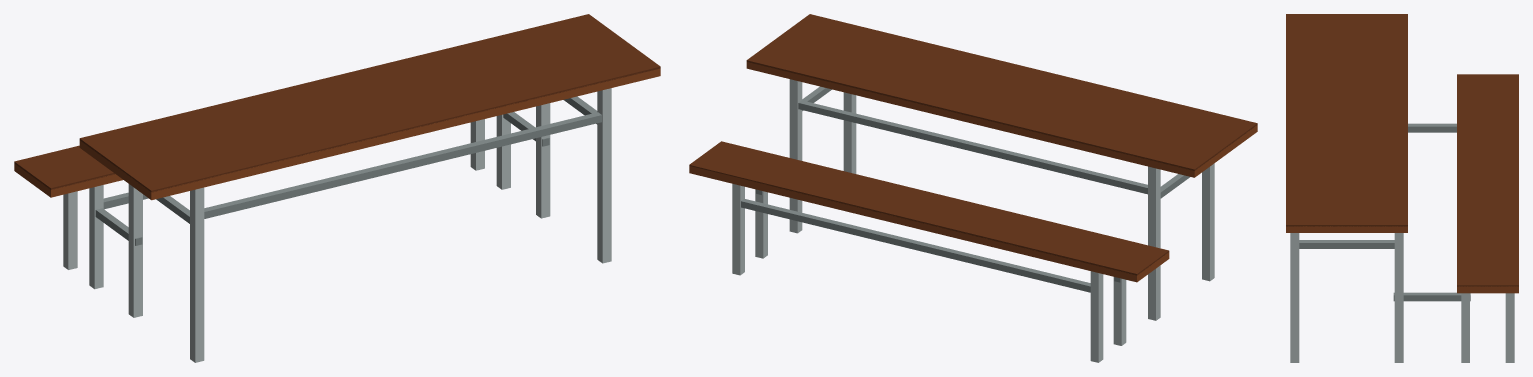
File: lab_bench_set.obj
The picture shows the model from 3 angles, left to right: view 1: azimuth 30°, elevation 25°; view 2: azimuth 150°, elevation 25°; view 3: azimuth 270°, elevation 25°; orthographic projection. The views are drawn at different scales.
Parts seen in each view (by area): view 1: Table_edge_strip, Table_top, Table_beam_right, Table_leg_R_1, Table_leg_R_3, Bench_left_edge_strip, Table_leg_L_1, Table_leg_L_3, Bench_left_leg_in_1, Bench_left_leg_out_1, Bench_left_leg_in_3, Bench_left_top (+2 smaller); view 2: Table_edge_strip, Bench_left_edge_strip, Table_top, Bench_left_top, Bench_left_beam_out, Table_beam_left, Table_leg_L_1, Table_leg_R_1, Table_leg_L_3, Bench_left_leg_out_1, Bench_left_leg_out_3, Table_leg_R_3 (+2 smaller); view 3: Table_edge_strip, Bench_left_edge_strip, Table_leg_L_3, Table_leg_R_3, Table_cross_3, Table_top, Bench_left_leg_out_3, Bench_left_leg_in_3, Cross_bar_left_3, Bench_left_top, Cross_bar_left_1.
Boxes of the visible parts, box(x1,y1,x2,y2) form: Table_edge_strip: box(79, 14, 660, 192); Table_top: box(79, 68, 660, 200); Table_beam_right: box(204, 112, 601, 218); Table_leg_R_1: box(190, 187, 204, 362); Table_leg_R_3: box(597, 88, 611, 263); Bench_left_edge_strip: box(14, 145, 114, 189); Table_leg_L_1: box(128, 184, 142, 317); Table_leg_L_3: box(536, 103, 550, 218); Bench_left_leg_in_1: box(89, 185, 103, 289); Bench_left_leg_out_1: box(63, 191, 77, 269); Bench_left_leg_in_3: box(496, 114, 510, 189); Bench_left_top: box(14, 163, 122, 197); Table_edge_strip: box(746, 14, 1257, 170); Bench_left_edge_strip: box(689, 141, 1169, 275); Table_top: box(746, 62, 1257, 177); Bench_left_top: box(689, 166, 1169, 282); Bench_left_beam_out: box(741, 198, 1090, 292); Table_beam_left: box(798, 100, 1147, 194); Table_leg_L_1: box(1148, 166, 1160, 320); Table_leg_R_1: box(1202, 163, 1214, 281); Table_leg_L_3: box(789, 79, 802, 233); Bench_left_leg_out_1: box(1090, 271, 1103, 362); Bench_left_leg_out_3: box(732, 183, 744, 275); Table_leg_R_3: box(843, 92, 856, 173); Table_edge_strip: box(1286, 14, 1407, 226); Bench_left_edge_strip: box(1457, 74, 1518, 286); Table_leg_L_3: box(1394, 233, 1403, 362); Table_leg_R_3: box(1290, 233, 1299, 362); Table_cross_3: box(1299, 240, 1394, 248); Table_top: box(1286, 226, 1407, 232); Bench_left_leg_out_3: box(1505, 293, 1514, 362); Bench_left_leg_in_3: box(1461, 293, 1469, 362); Cross_bar_left_3: box(1393, 292, 1470, 301); Bench_left_top: box(1457, 286, 1518, 293); Cross_bar_left_1: box(1408, 123, 1456, 132).
Bounding box in the file's own units: 2.25 × 0.7825 × 1.05.
